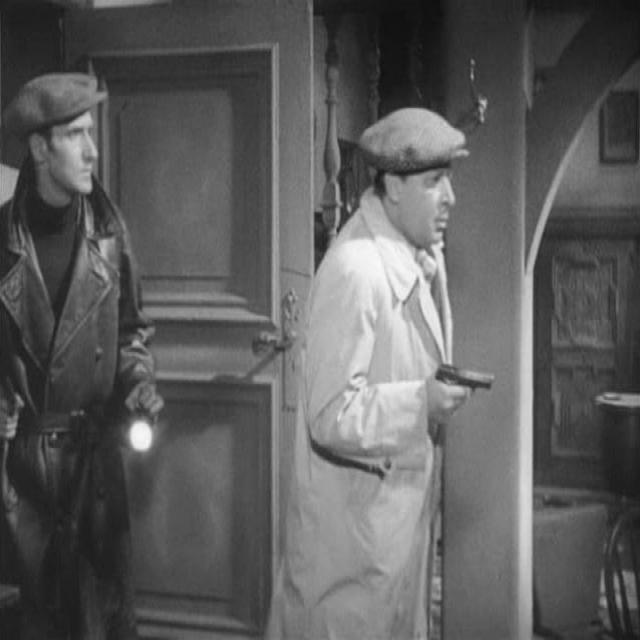gun-knife-thesis - v11 Yolov5 augmented: (417, 350, 498, 430)
